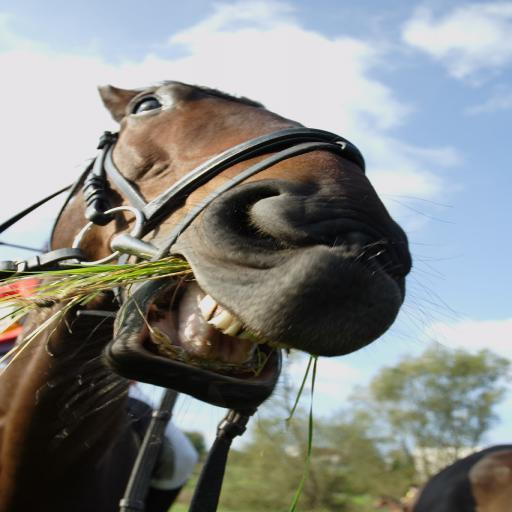Horse: (0, 83, 470, 511), (414, 444, 512, 512), (369, 494, 411, 512)
